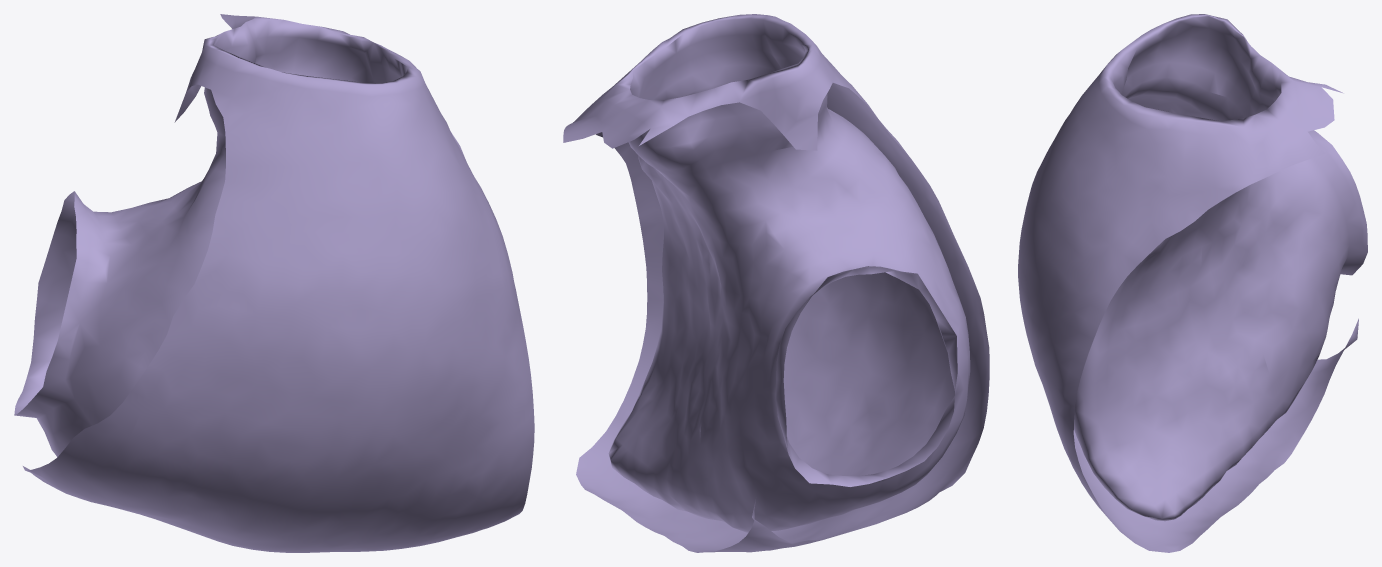
Rendered from ventriculo_direito.glb.
3 views of the same model, side by side, from view 1: azimuth 30°, elevation 25°; view 2: azimuth 150°, elevation 25°; view 3: azimuth 270°, elevation 25° (orthographic). The views are drawn at different scales.
Visible parts, largest first — view 1: ventriculo_direito; view 2: ventriculo_direito; view 3: ventriculo_direito.
Boxes of the visible parts, x1,y1,x2,y2 form: ventriculo_direito: [14, 14, 534, 552]; ventriculo_direito: [563, 14, 989, 552]; ventriculo_direito: [1018, 14, 1367, 552].
Bounding box in the file's own units: 0.083 × 0.0928 × 0.0671.
